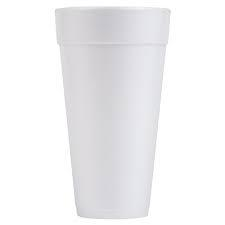Plastic cup: (43, 4, 186, 225)
